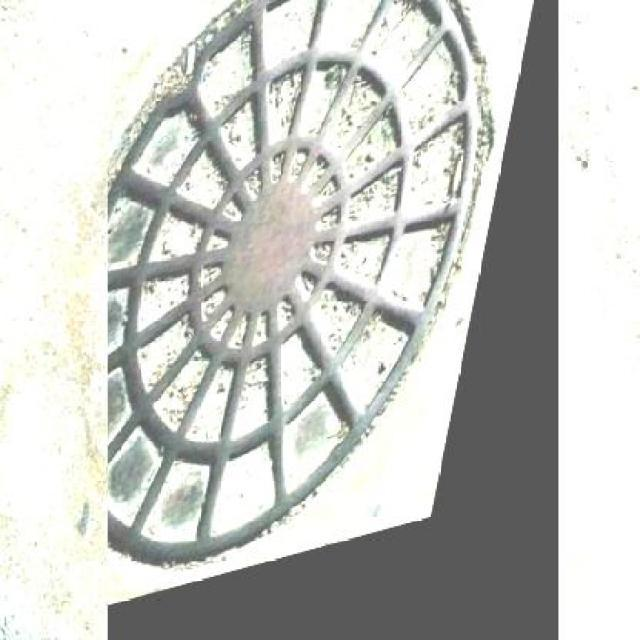Manhole: (107, 0, 558, 640)
